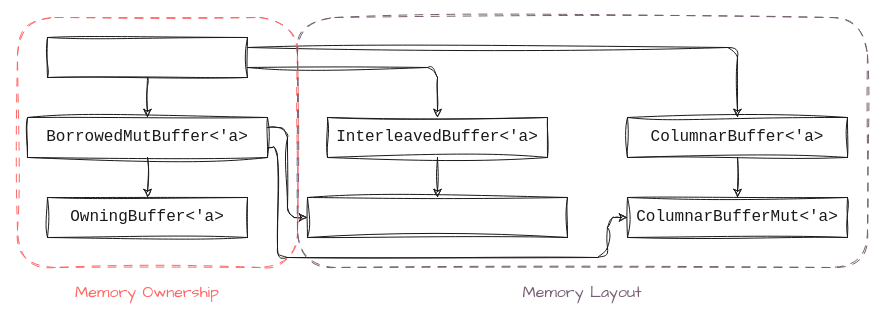
Image size: 885x325. Some labels were removed from this diagram. Here are the shapes that lost their labels. From the top down, the centre of each, then its label:
At point 147,57: "BorrowedBuffer<'a>".
At point 437,217: "InterleavedBufferMut<'a>".
